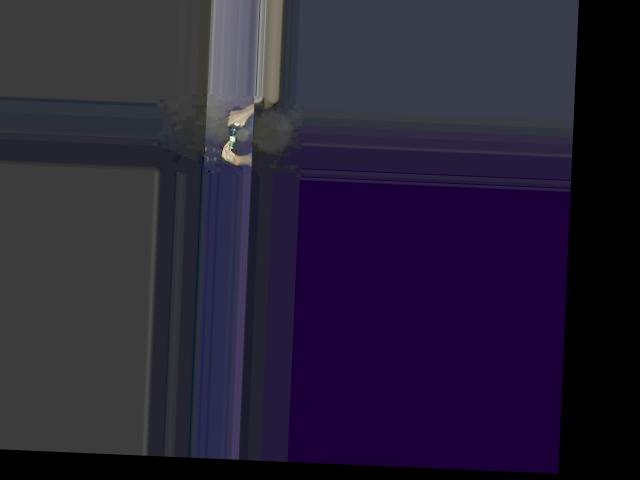beer: (228, 106, 243, 148)
